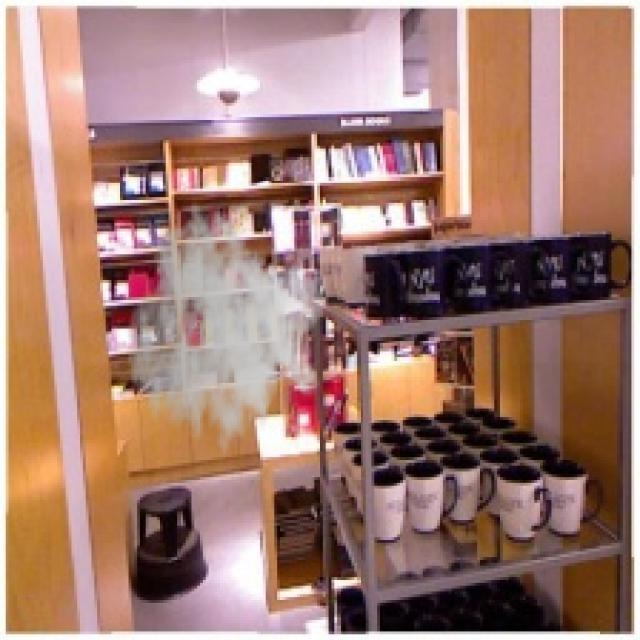Smoke: (125, 199, 328, 472)
